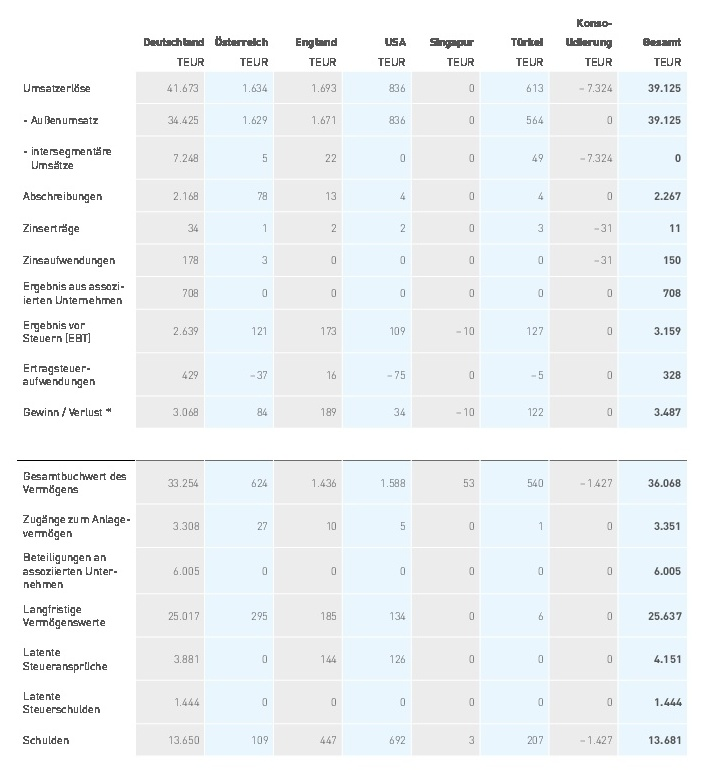table: (0, 0, 703, 770)
